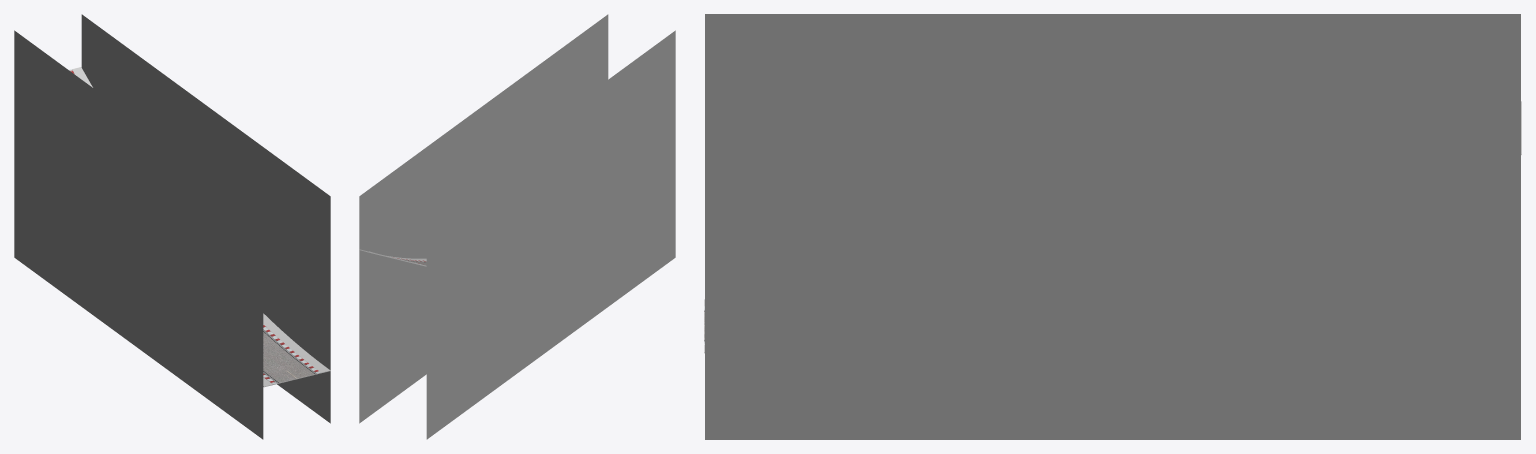
The model's file is track3.fbx.
3 views of the same model, side by side, from view 1: azimuth 30°, elevation 25°; view 2: azimuth 150°, elevation 25°; view 3: azimuth 270°, elevation 25° (orthographic). The views are drawn at different scales.
Parts seen in each view (by area): view 1: colider, track2; view 2: colider; view 3: colider.
Part boxes in pixels (x1,y1,x2,y2): colider: [14, 14, 330, 439]; track2: [69, 67, 330, 387]; colider: [359, 14, 675, 439]; colider: [705, 14, 1520, 439].
Bounding box in the file's own units: 4720 × 15273 × 30383.
